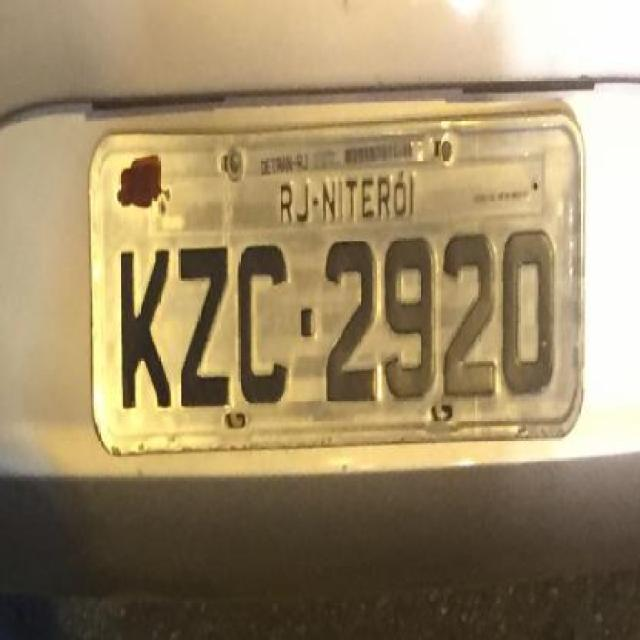old_plate: (84, 104, 591, 466)
